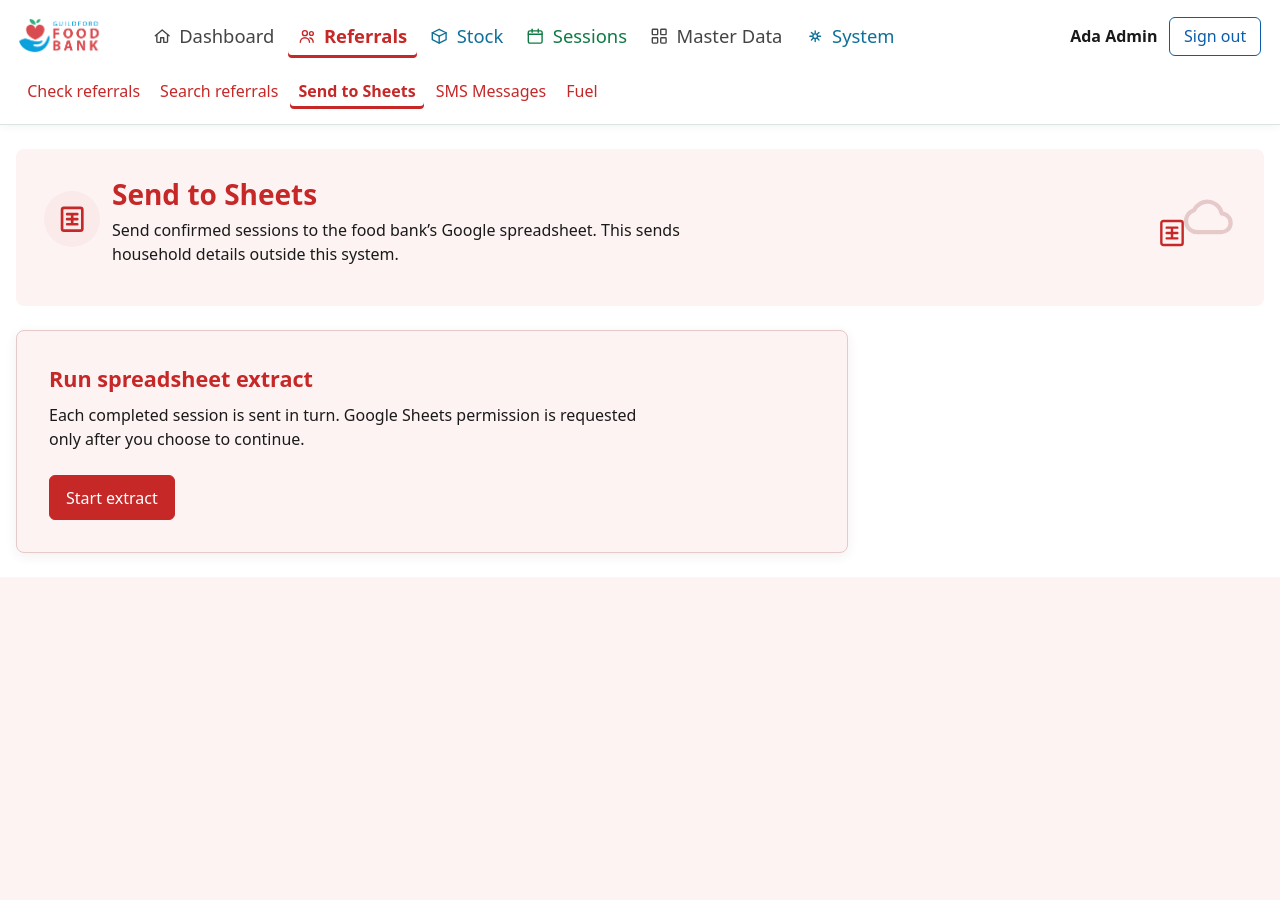
Test case: spreadsheet extract › asks whether to continue before asking Google for permission
The width and height of the screenshot is (1280, 900).
Step 1. Click the button "Start extract" → (112,498), box [49, 475, 175, 520]
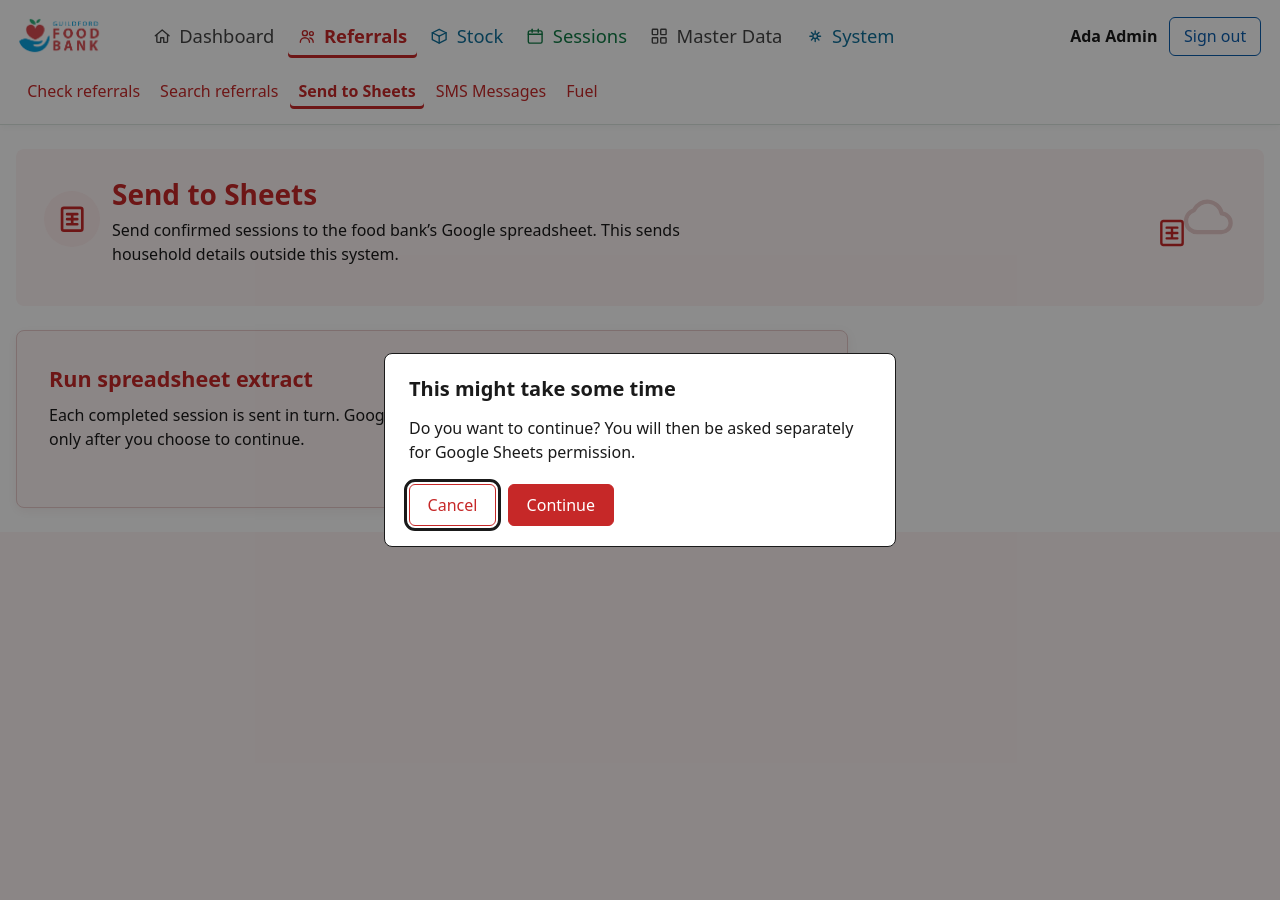
Expected: the text "Do you want to continue" is shown, [409, 417, 853, 463]
